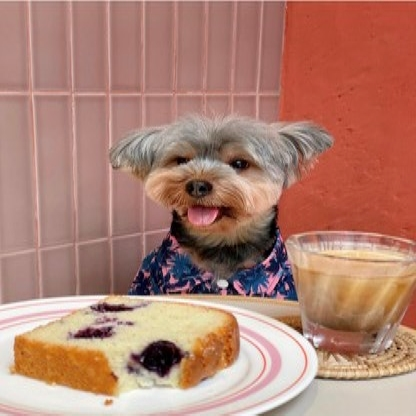yorkshire: (98, 113, 334, 255)
